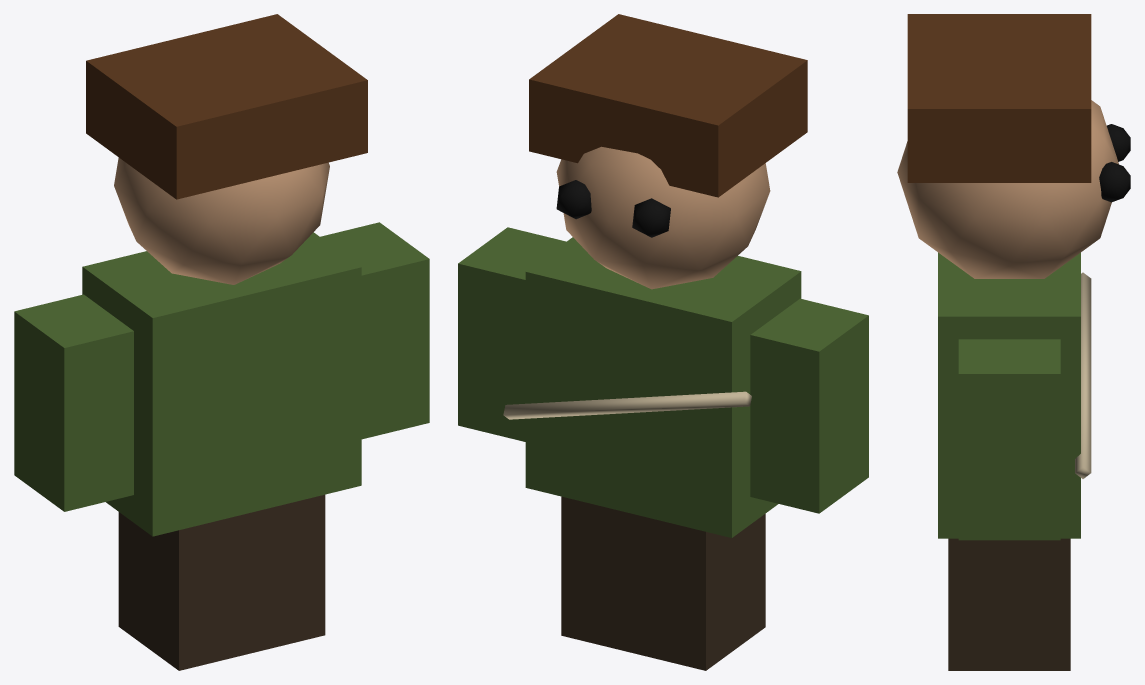
The model's file is guide_voodoo_doll.glb.
The picture shows the model from 3 angles, left to right: view 1: azimuth 30°, elevation 25°; view 2: azimuth 150°, elevation 25°; view 3: azimuth 270°, elevation 25°; orthographic projection. The views are drawn at different scales.
Visible parts, largest first — view 1: guide_voodoo_doll_v0; view 2: guide_voodoo_doll_v0; view 3: guide_voodoo_doll_v0.
Boxes of the visible parts, <box> form: guide_voodoo_doll_v0: <box>14,14,429,670</box>; guide_voodoo_doll_v0: <box>458,14,868,670</box>; guide_voodoo_doll_v0: <box>897,14,1130,670</box>.
Size of the model in its own units: 0.21 by 0.31 by 0.1144.
